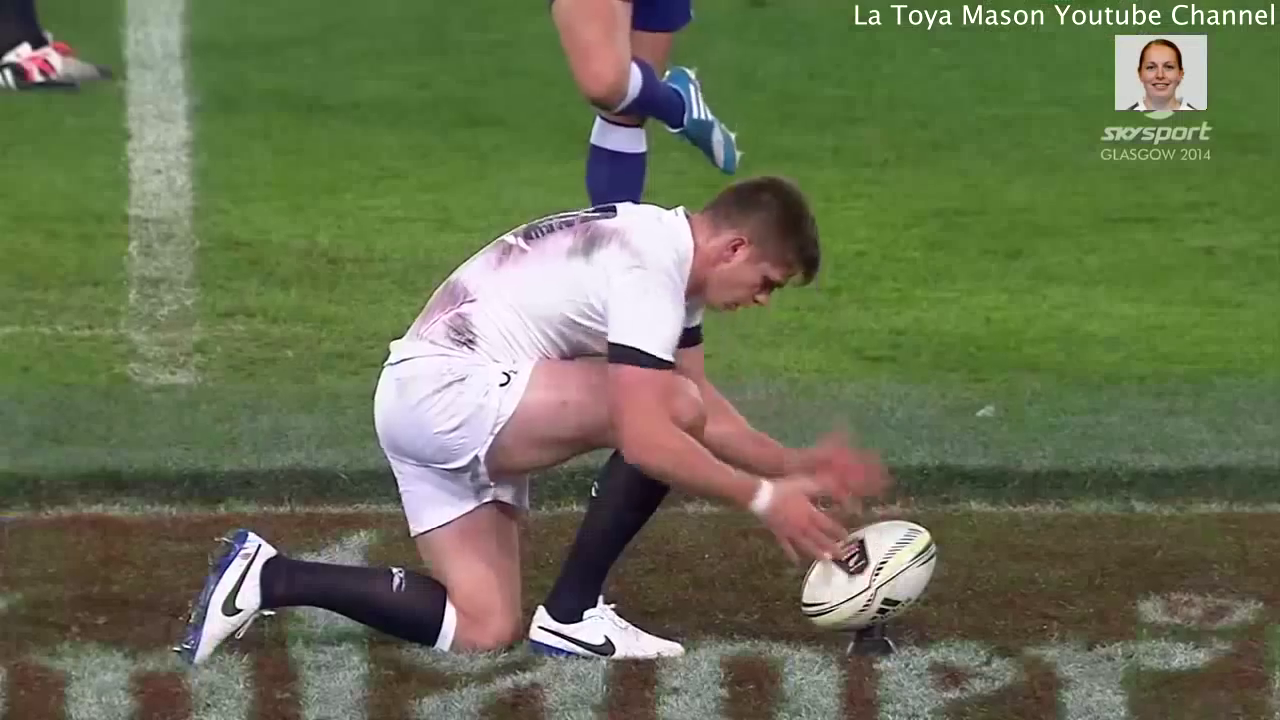ball: (769, 476, 947, 667)
player: (157, 160, 897, 674)
